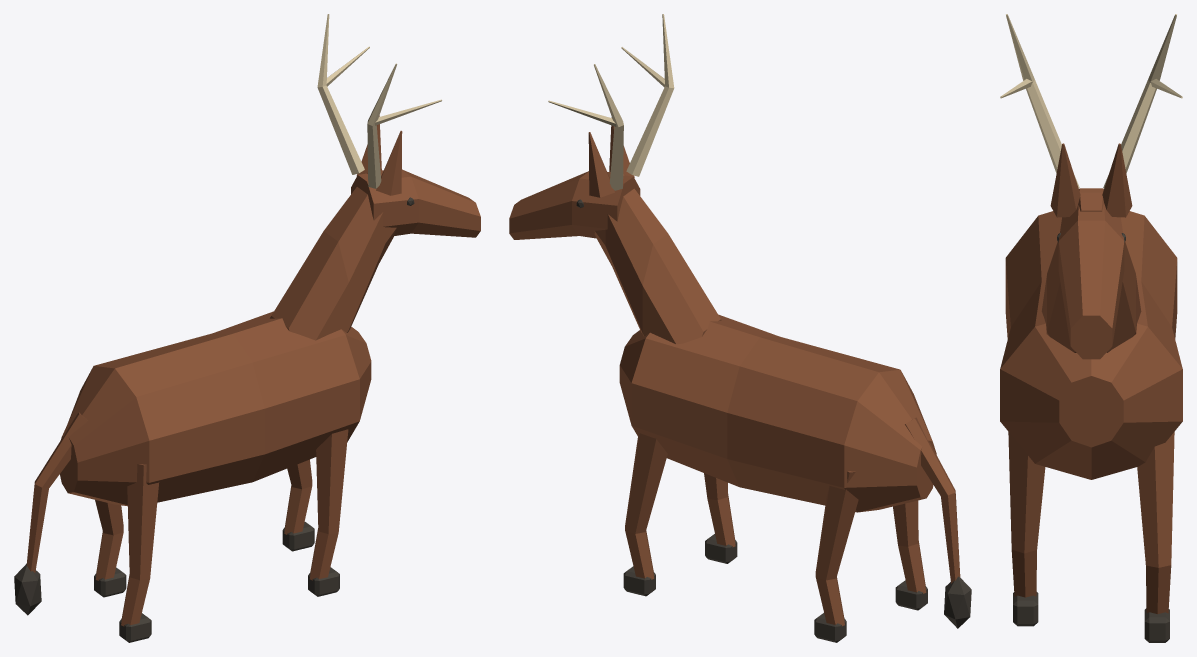
Rendered from deer.glb.
The picture shows the model from 3 angles, left to right: view 1: azimuth 30°, elevation 25°; view 2: azimuth 150°, elevation 25°; view 3: azimuth 270°, elevation 25°; orthographic projection. The views are drawn at different scales.
Parts seen in each view (by area): view 1: Sculpted silhouette, Sculpted silhouette.001, Sculpted silhouette.002, Tapered form, Tapered form.002, Tapered form.010, Tapered form.001, Tapered form.008, Tapered form.003, Tapered form.006, Icosphere, Tapered form.004; view 2: Sculpted silhouette, Sculpted silhouette.001, Sculpted silhouette.002, Tapered form.003, Tapered form.001, Tapered form.010, Tapered form, Tapered form.006, Tapered form.002, Tapered form.008, Icosphere, Tapered form.005 (+3 smaller); view 3: Sculpted silhouette, Sculpted silhouette.002, Tapered form.003, Tapered form.002, Sculpted silhouette.001, Tapered form.006, Tapered form.008, Tapered form.005, Tapered form.004, Cube.002, Cube.003.
Part boxes in pixels (x1,y1,x2,y2): Sculpted silhouette: (60,311,371,505); Sculpted silhouette.001: (270,170,396,340); Sculpted silhouette.002: (351,169,480,237); Tapered form: (121,464,159,626); Tapered form.002: (309,429,348,580); Tapered form.010: (27,412,87,572); Tapered form.001: (95,500,123,580); Tapered form.008: (317,14,364,174); Tapered form.003: (284,459,312,534); Tapered form.006: (367,63,397,188); Icosphere: (14,563,41,615); Tapered form.004: (376,130,402,195); Sculpted silhouette: (619,314,936,512); Sculpted silhouette.001: (594,172,721,344); Sculpted silhouette.002: (509,171,640,239); Tapered form.003: (625,433,667,579); Tapered form.001: (815,471,858,626); Tapered form.010: (905,417,960,583); Tapered form: (893,500,926,593); Tapered form.006: (626,14,674,176); Tapered form.002: (704,473,735,547); Tapered form.008: (594,64,623,190); Icosphere: (944,576,971,628); Tapered form.005: (588,132,614,197); Sculpted silhouette: (1000,211,1182,479); Sculpted silhouette.002: (1058,188,1124,359); Tapered form.003: (1137,432,1174,614); Tapered form.002: (1008,432,1045,597); Sculpted silhouette.001: (1041,192,1141,352); Tapered form.006: (1006,14,1079,188); Tapered form.008: (1103,14,1176,188); Tapered form.005: (1102,143,1132,217); Tapered form.004: (1050,143,1080,217); Cube.002: (1013,592,1038,626); Cube.003: (1144,608,1169,642).
Bounding box in the file's own units: 1.15 × 1.26 × 0.3236.
